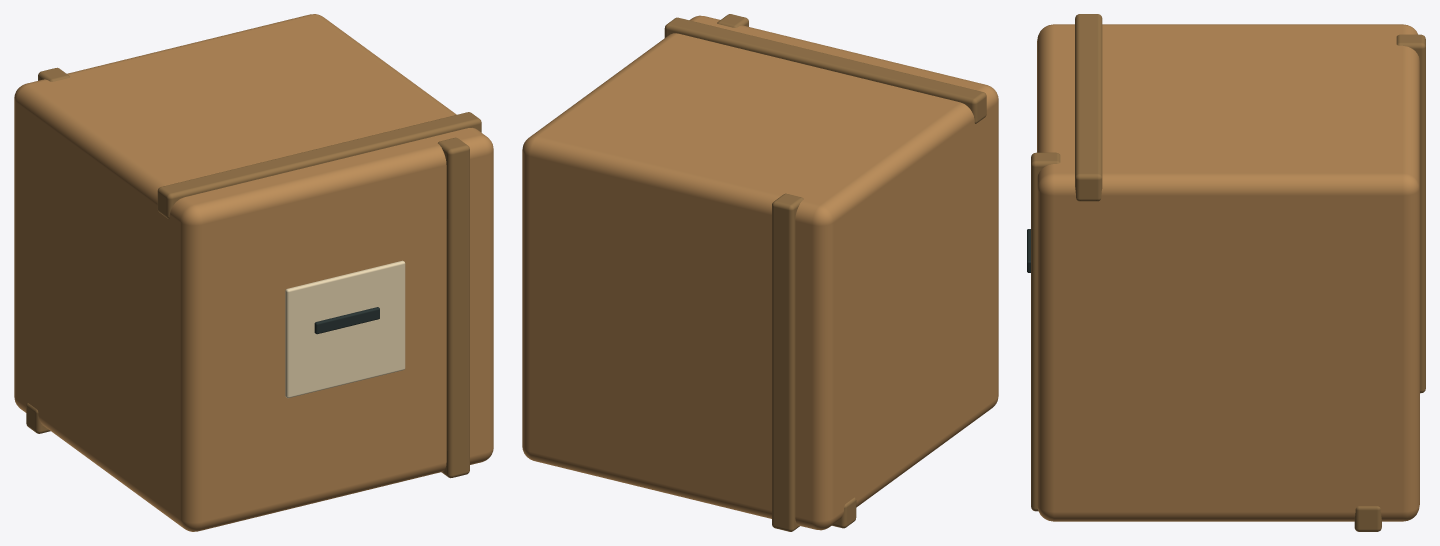
The model's file is cargo-box.glb.
3 views of the same model, side by side, from view 1: azimuth 30°, elevation 25°; view 2: azimuth 150°, elevation 25°; view 3: azimuth 270°, elevation 25° (orthographic). The views are drawn at different scales.
Parts seen in each view (by area): view 1: wood, leather, cream, dark; view 2: wood, leather; view 3: wood, leather.
Boxes of the visible parts, x1,y1,x2,y2 form: wood: (14, 14, 493, 531); leather: (26, 67, 481, 478); cream: (285, 260, 405, 398); dark: (314, 307, 379, 334); wood: (522, 15, 998, 530); leather: (664, 14, 986, 531); wood: (1037, 24, 1419, 521); leather: (1031, 14, 1425, 531).
Bounding box in the file's own units: 0.636 × 0.65 × 0.6565.
